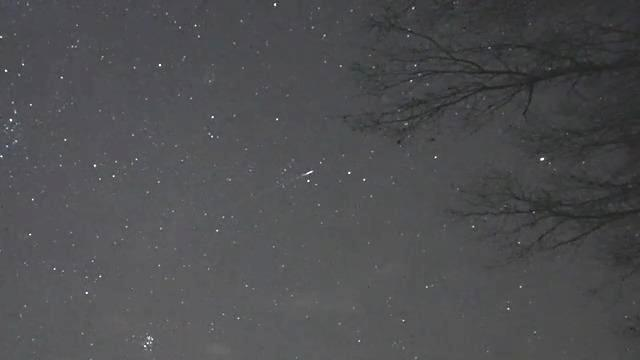meteorite: (282, 167, 330, 180)
